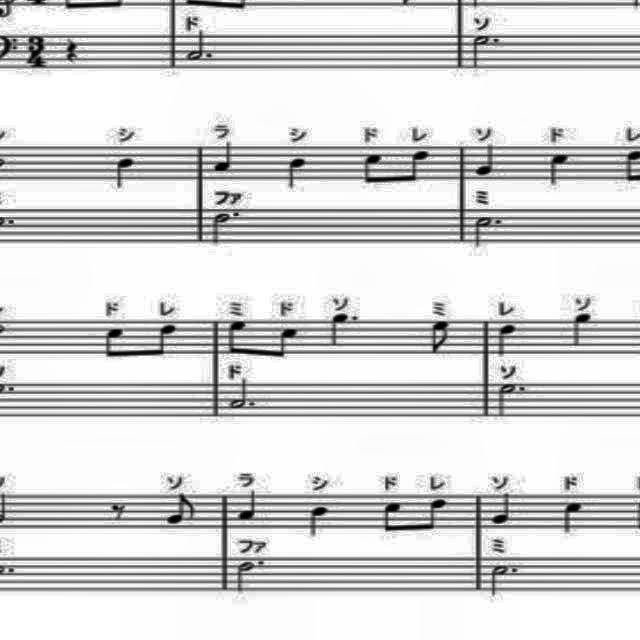Eighth-note: (158, 492, 206, 528), (416, 494, 452, 538), (400, 147, 436, 187), (220, 317, 252, 361), (96, 322, 130, 362), (266, 323, 300, 361), (152, 321, 180, 364), (377, 498, 407, 538), (358, 146, 386, 188), (424, 318, 454, 357)
Eighth-rest: (108, 498, 132, 526)
Half-dot: (468, 213, 516, 251), (230, 558, 270, 602), (205, 210, 247, 250), (488, 560, 526, 604), (471, 30, 502, 76), (494, 377, 526, 419), (227, 376, 263, 412), (183, 29, 221, 62)
Quarter-dot: (326, 311, 366, 349)
Quarter-note: (536, 149, 574, 189), (280, 152, 312, 196), (566, 306, 598, 349), (232, 488, 264, 528), (494, 319, 522, 361), (488, 490, 516, 532), (210, 140, 240, 178), (558, 498, 586, 538), (474, 143, 502, 181), (113, 154, 141, 190), (304, 505, 332, 539)
Quarter-rest: (62, 36, 84, 68)
